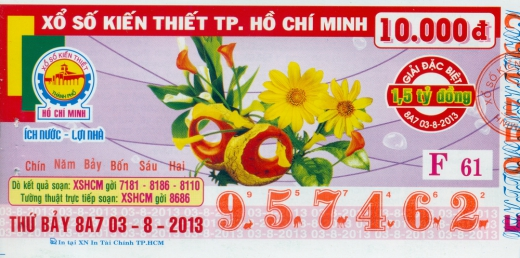serial_zone: (210, 187, 499, 240)
